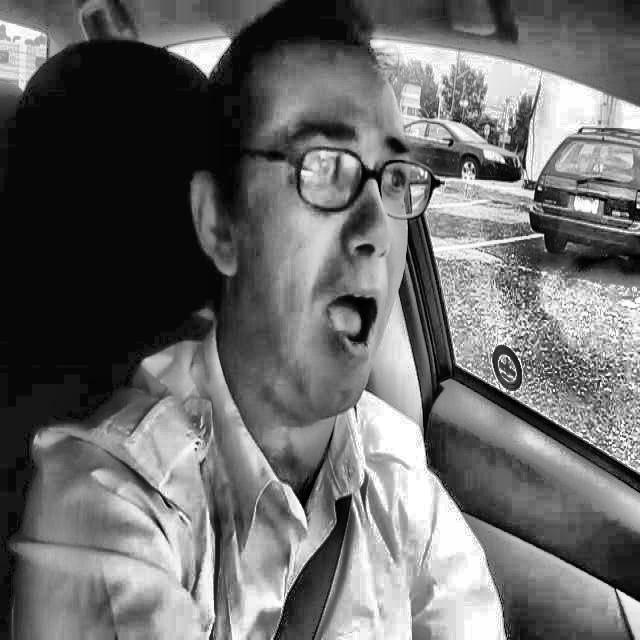open_eyes: (374, 152, 444, 221)
open_mouth: (308, 272, 394, 373)
